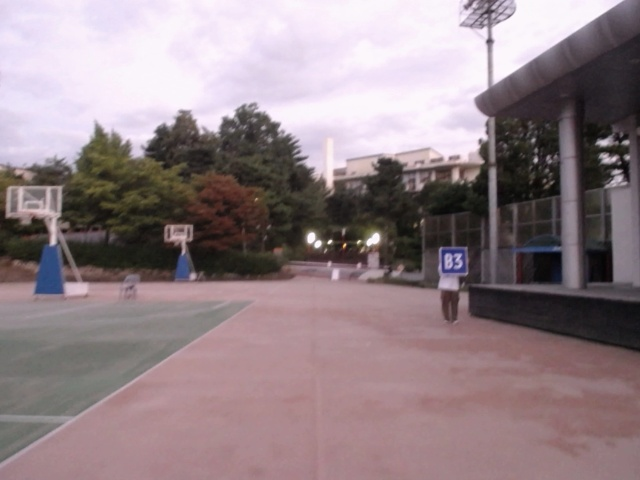delivery_b3: (440, 246, 469, 277)
